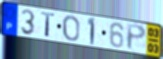1: (86, 17, 96, 47)
3: (21, 9, 37, 36)
6: (109, 21, 125, 48)
O: (62, 15, 81, 42)
P: (126, 23, 147, 52)
T: (40, 11, 56, 39)
